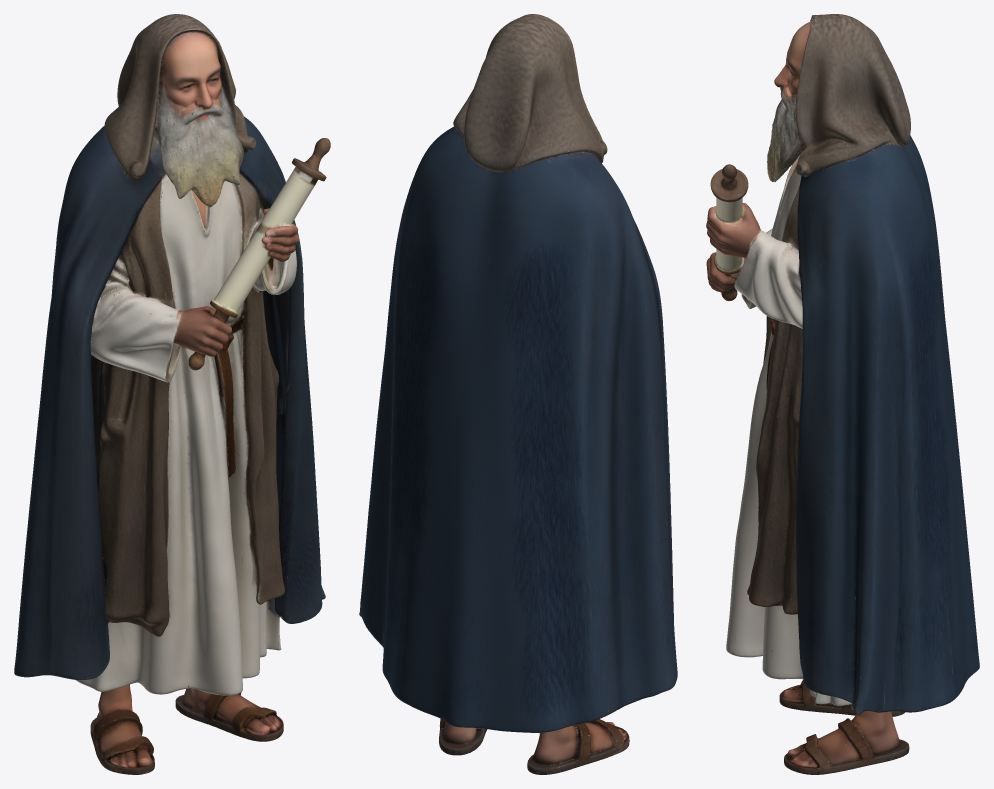
Rendered from Meshy_AI_rabbi_akiva_0131194026_texture.glb.
3 views of the same model, side by side, from view 1: azimuth 30°, elevation 25°; view 2: azimuth 150°, elevation 25°; view 3: azimuth 270°, elevation 25° (orthographic).
Bounding box in the file's own units: 0.9081 × 2 × 0.6951.
1 material, 1 textured.
